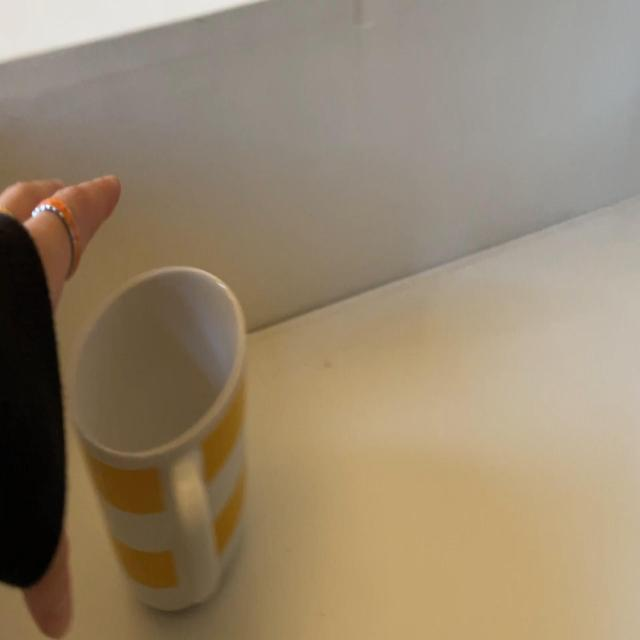cup: (74, 261, 250, 621)
